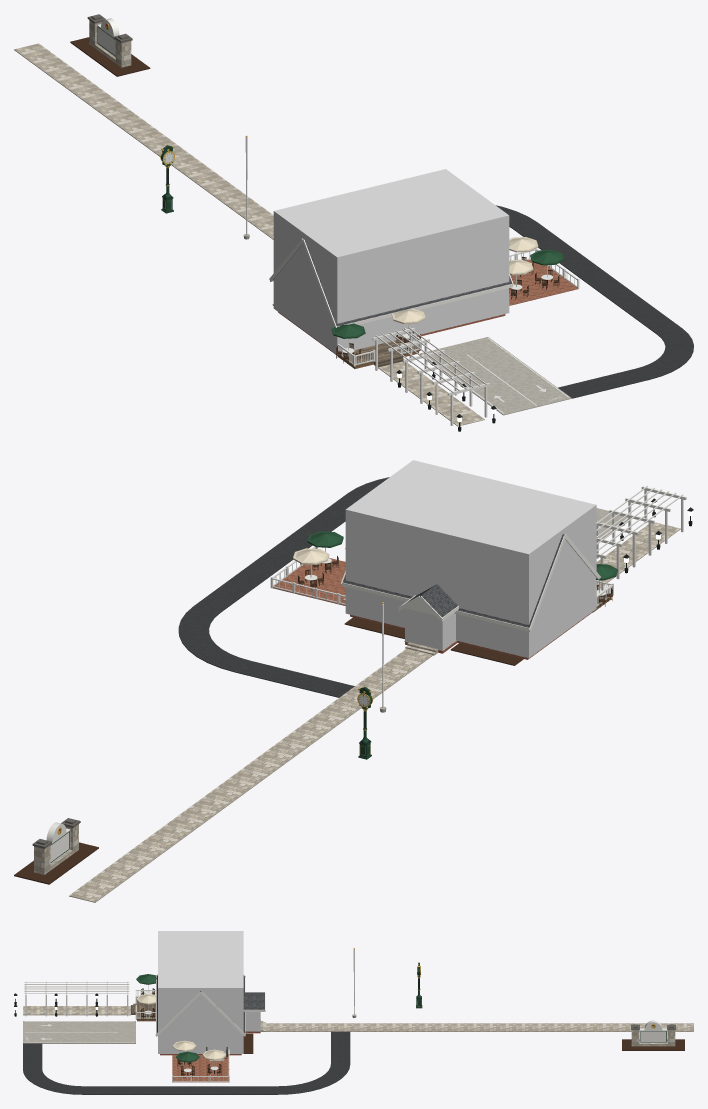
File: clubhouse_l1.gltf
3 views of the same model, one above another, from view 1: azimuth 30°, elevation 25°; view 2: azimuth 150°, elevation 25°; view 3: azimuth 270°, elevation 25° (orthographic). The views are drawn at different scales.
Visible parts, largest first — view 1: COL_main, BASE, ROOF, WALLS_HIGH; view 2: COL_main, BASE, ROOF, COL_portico, WALLS_HIGH; view 3: BASE, COL_main, ROOF, WALLS_HIGH, COL_portico.
Boxes of the visible parts, x1,y1,x2,y2 form: COL_main: (273, 169, 509, 354); BASE: (14, 14, 693, 431); ROOF: (269, 238, 513, 327); WALLS_HIGH: (337, 248, 579, 366); COL_main: (345, 460, 596, 658); BASE: (14, 477, 693, 902); ROOF: (341, 534, 600, 631); COL_portico: (405, 608, 455, 649); WALLS_HIGH: (270, 546, 613, 606); BASE: (14, 948, 693, 1094); COL_main: (158, 931, 243, 1053); ROOF: (155, 974, 265, 1036); WALLS_HIGH: (135, 989, 229, 1082); COL_portico: (245, 1012, 260, 1031).
Size of the model in its own units: 28.97 by 9.51 by 84.1.
38 materials, 12 textured.
